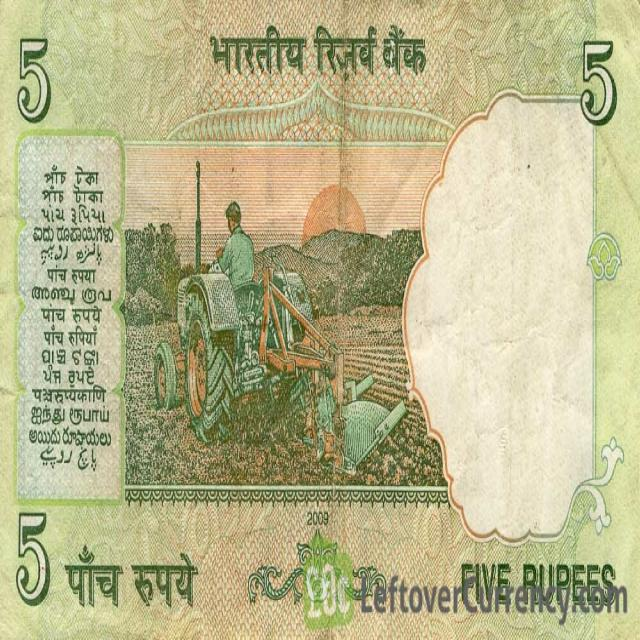5IndianRupees: (2, 8, 635, 637)
